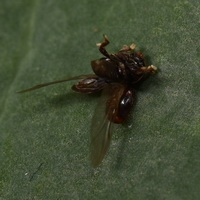insect: (16, 34, 158, 166)
